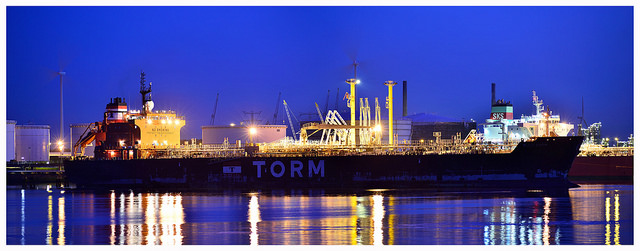tanker: (83, 89, 589, 192)
